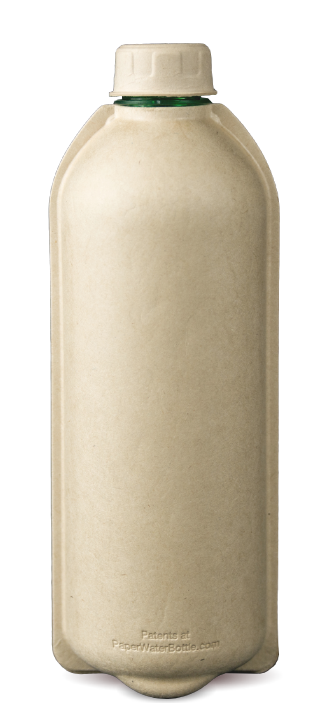bottle_cap: (53, 27, 305, 104)
water_bottle: (1, 29, 309, 700)
